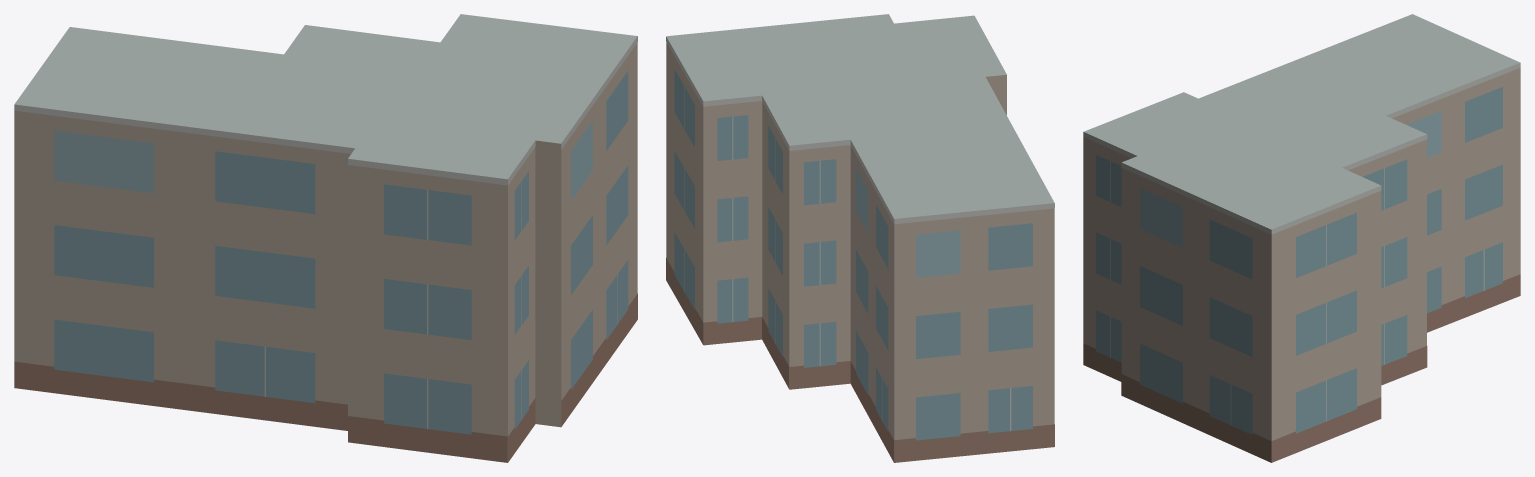
Rendered from survey-upis-32675280.glb.
The picture shows the model from 3 angles, left to right: view 1: azimuth 30°, elevation 25°; view 2: azimuth 150°, elevation 25°; view 3: azimuth 270°, elevation 25°; orthographic projection. The views are drawn at different scales.
Parts seen in each view (by area): view 1: survey-upis-32675280.tmp; view 2: survey-upis-32675280.tmp; view 3: survey-upis-32675280.tmp.
Part boxes in pixels (box(x1,y1,x2,y2)): survey-upis-32675280.tmp: box(14, 14, 637, 462); survey-upis-32675280.tmp: box(666, 14, 1054, 462); survey-upis-32675280.tmp: box(1083, 14, 1520, 462).
Size of the model in its own units: 22.31 by 11.24 by 19.1.
